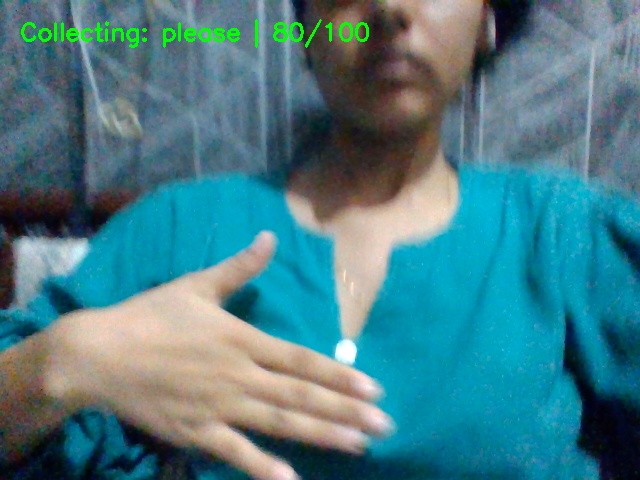please: (71, 200, 415, 480)
